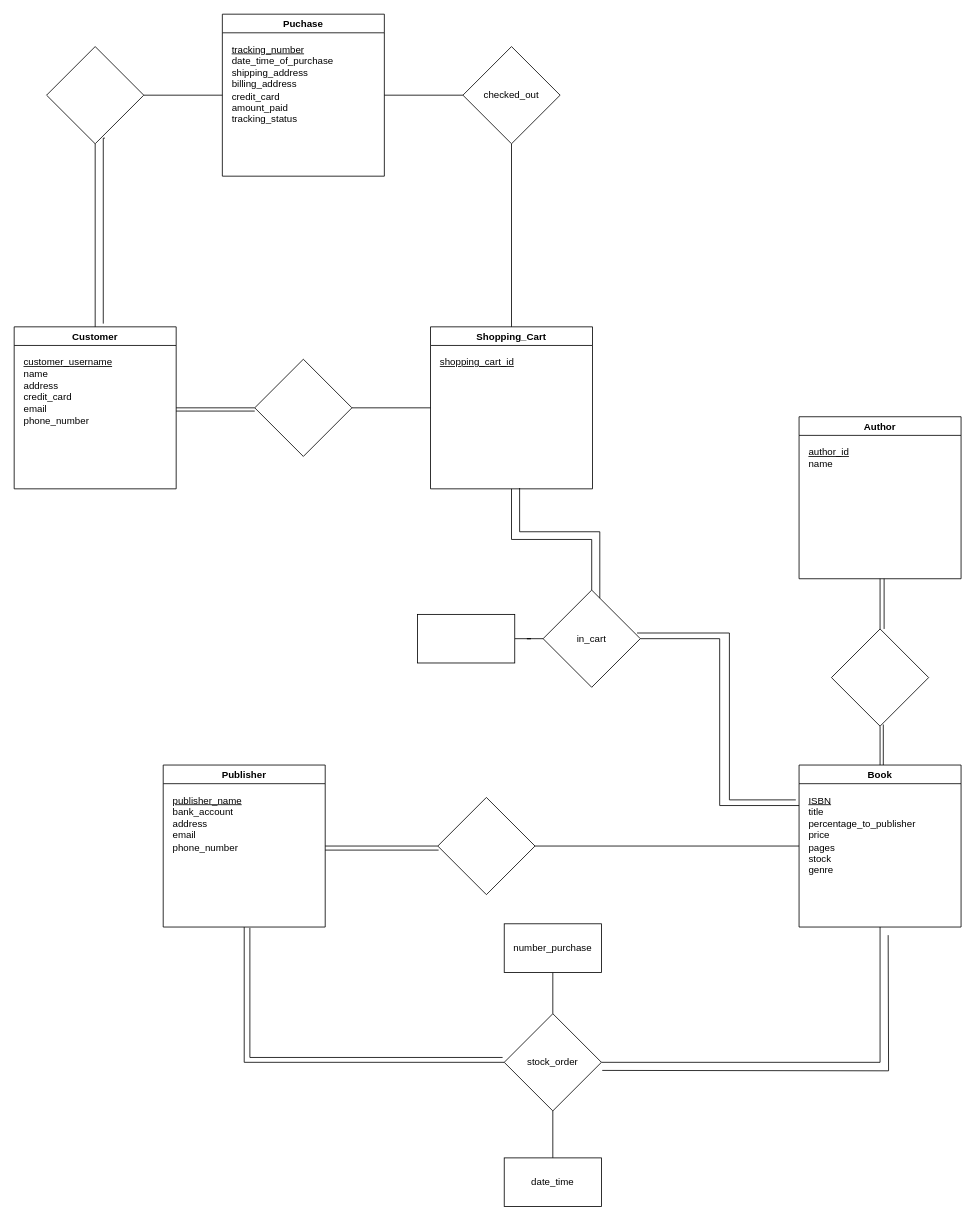
Image size: 975x1221. Some labels were removed from this diagram. The shapes that lost their labels are listed below. From the top down, each one's centre as x and y in pixels, then its label:
At (x=95, y=95): "ordered".
At (x=303, y=407): "customer_cart".
At (x=466, y=638): "quantity".
At (x=880, y=677): "Wrote".
At (x=486, y=846): "Published_by".
